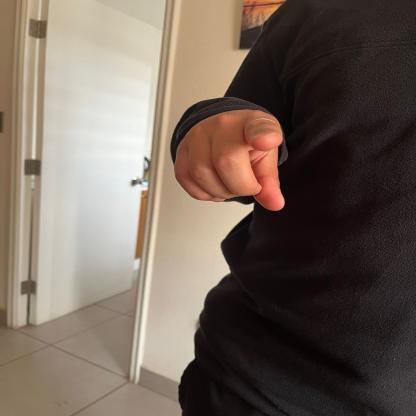X: (164, 98, 294, 226)
